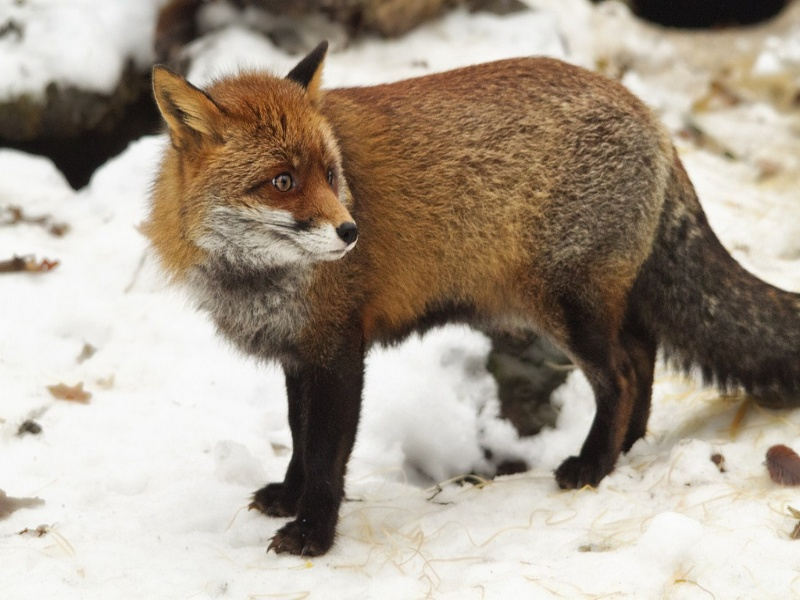fox: (139, 44, 800, 559)
